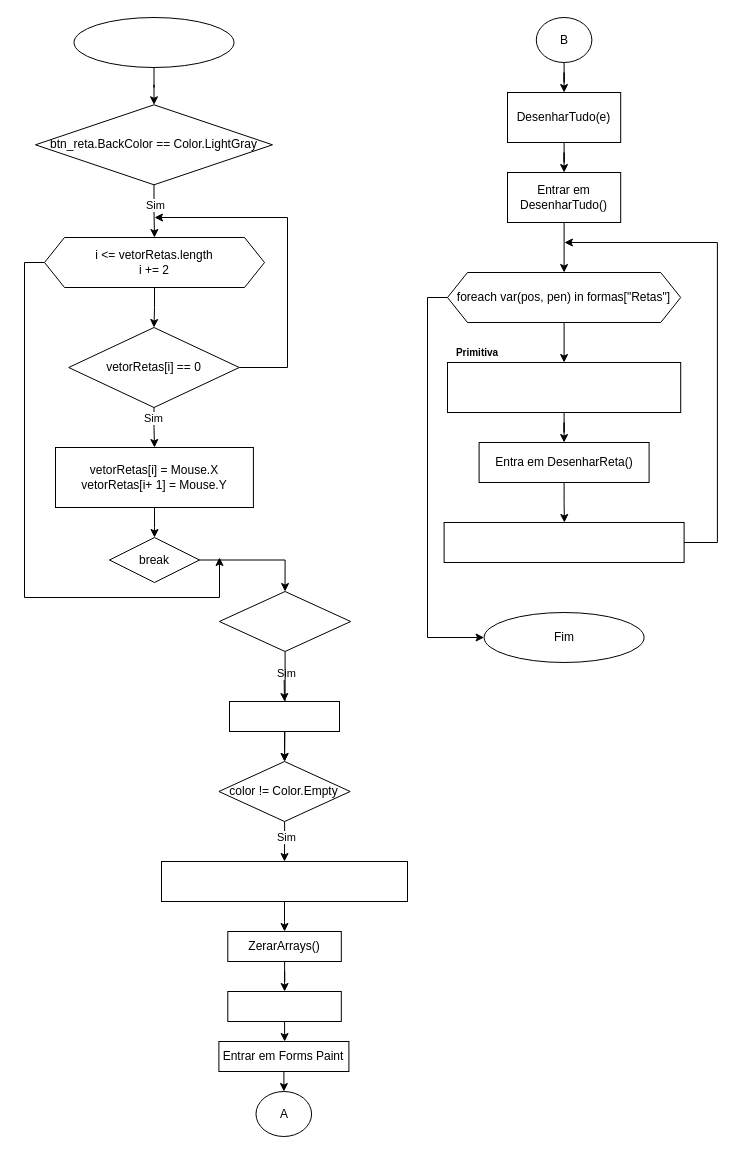
This 743x1154 diagram has some shape labels left out. The shapes that lost their labels are listed below. From the top down, each one's box as (x1, y1, x2, y2) in pixels, then its label:
(73, 16, 234, 68): Início (Mouse Click)
(446, 362, 681, 412): DesenharReta(var - propriedades da reta)
(443, 522, 684, 562): e.Graphics.DrawLine(caneta, x0, y0, x1, y1)
(218, 590, 351, 652): vetorRetas[3] != 0
(228, 700, 340, 732): cor = verificarCor()
(160, 860, 408, 902): formas['Retas'].Add(propriedades da reta)
(227, 990, 341, 1022): Invalidate()
